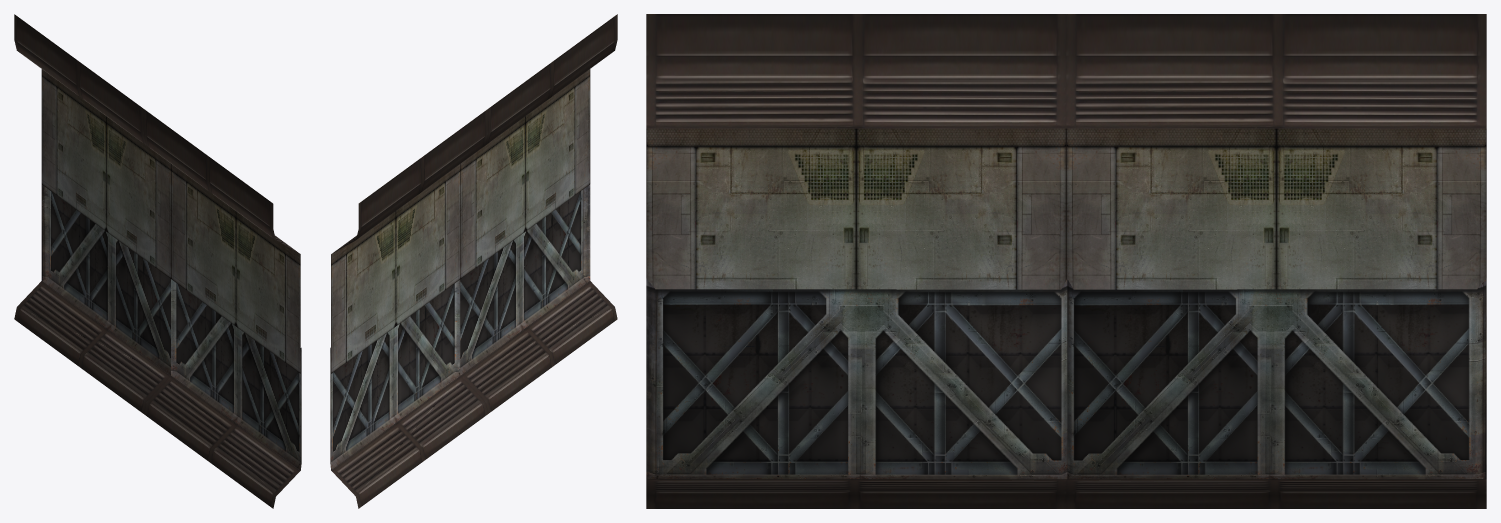
The model's file is ARC_Wall_Mid01.FBX.
3 renders of one model, left to right at view 1: azimuth 30°, elevation 25°; view 2: azimuth 150°, elevation 25°; view 3: azimuth 270°, elevation 25°, orthographic. The views are drawn at different scales.
Parts seen in each view (by area): view 1: ARC_Wall_Mid01; view 2: ARC_Wall_Mid01; view 3: ARC_Wall_Mid01.
Boxes of the visible parts, x1=… form: ARC_Wall_Mid01: x1=14, y1=14, x2=301, y2=508; ARC_Wall_Mid01: x1=330, y1=14, x2=617, y2=508; ARC_Wall_Mid01: x1=646, y1=14, x2=1486, y2=508.
Size of the model in its own units: 34.72 by 325 by 500.
1 material, 1 textured.
